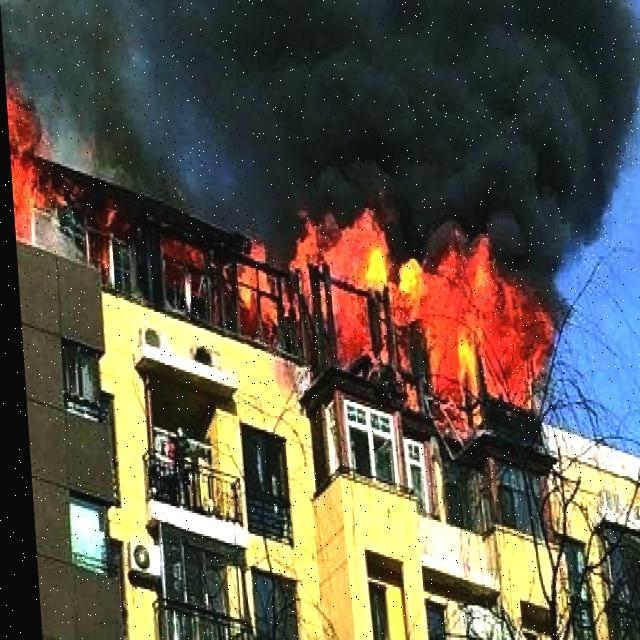Fire: (225, 204, 551, 444)
